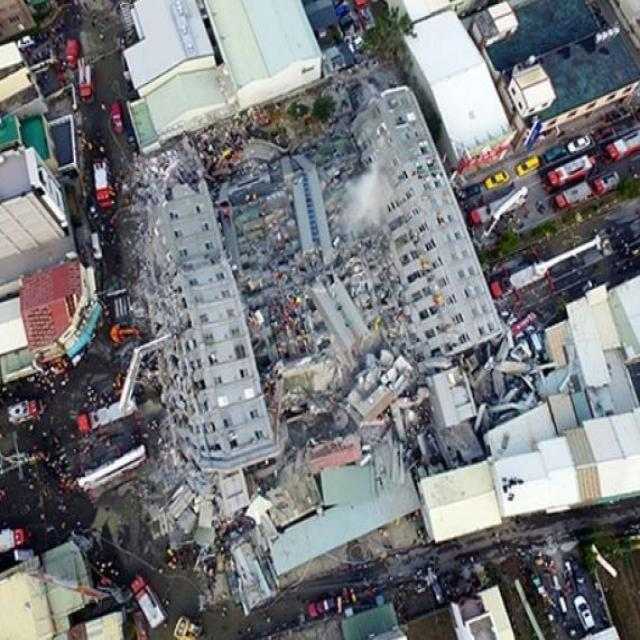collapsed_building: (138, 80, 495, 477)
